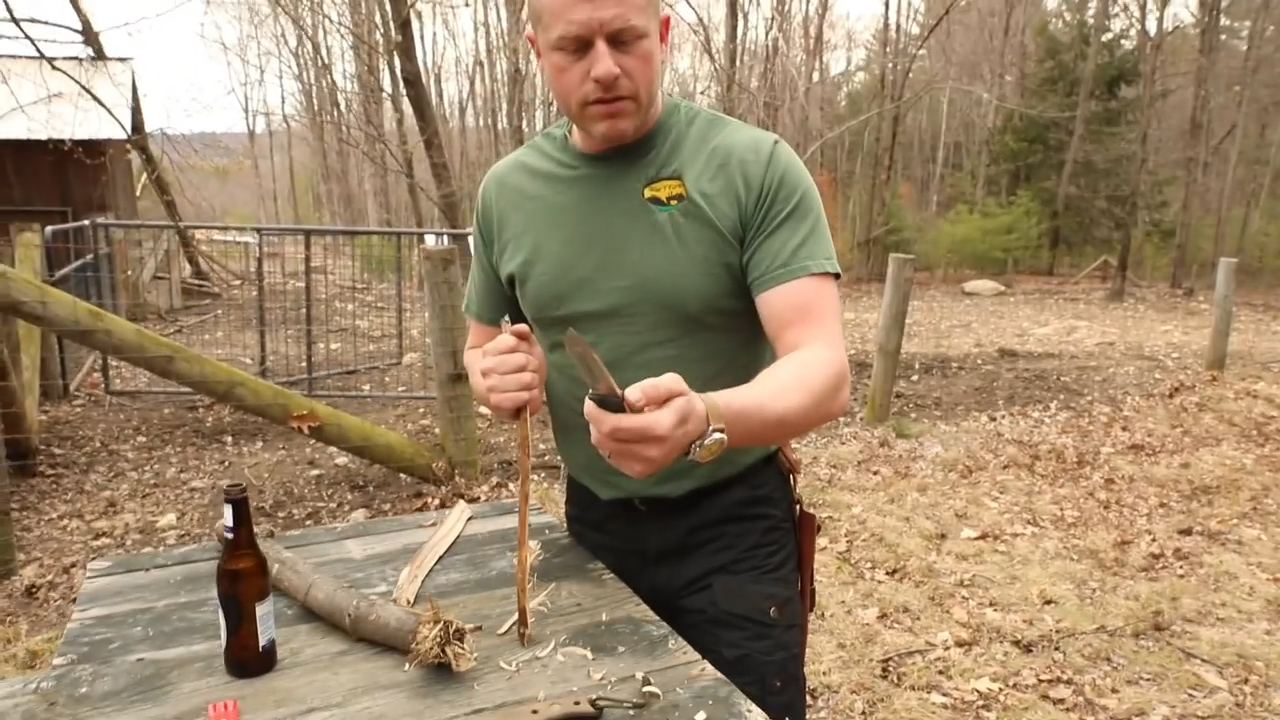knife: (558, 313, 688, 451)
